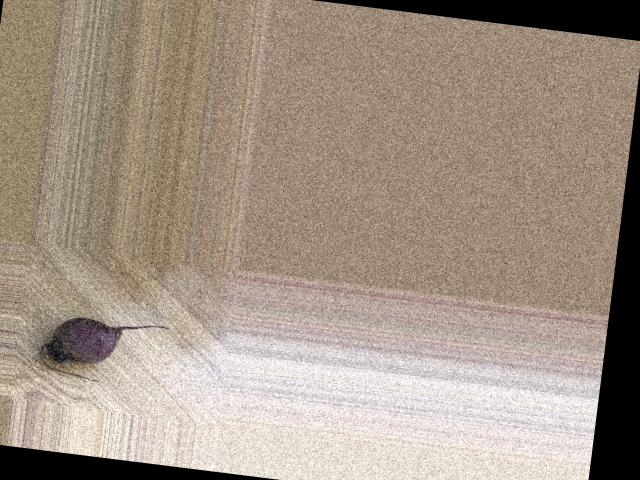beet: (37, 311, 171, 389)
